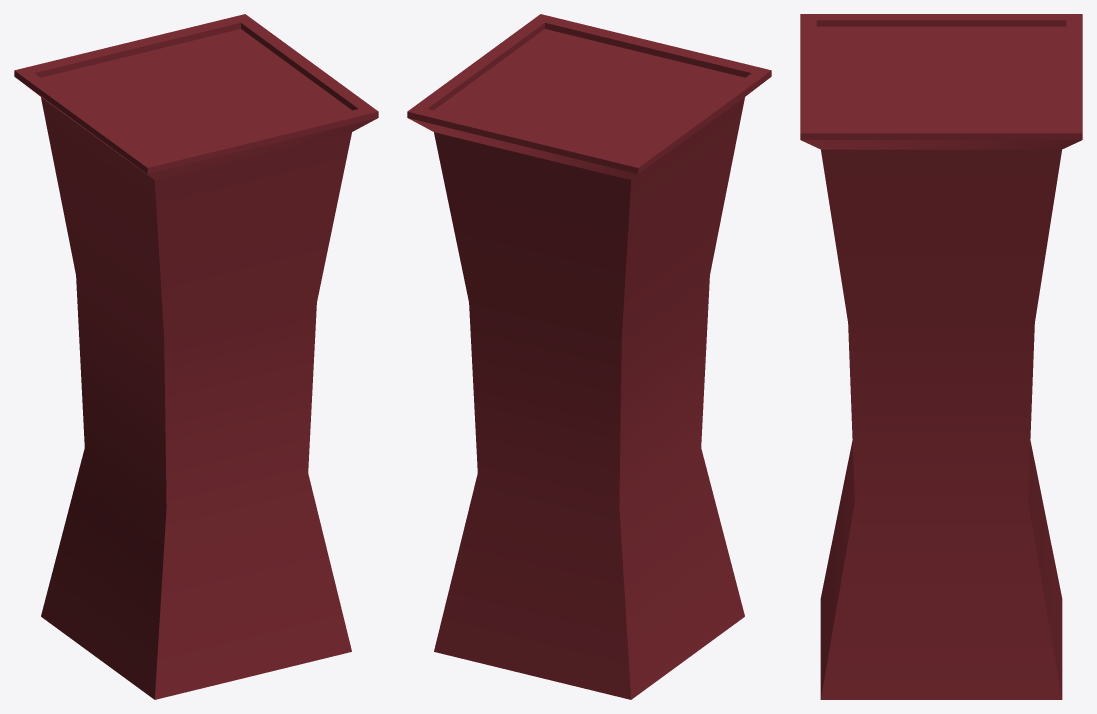
Rendered from Pulpito2.glb.
3 views of the same model, side by side, from view 1: azimuth 30°, elevation 25°; view 2: azimuth 150°, elevation 25°; view 3: azimuth 270°, elevation 25° (orthographic). The views are drawn at different scales.
Visible parts, largest first — view 1: Cube.001; view 2: Cube.001; view 3: Cube.001.
Boxes of the visible parts, x1,y1,x2,y2 form: Cube.001: [14, 14, 378, 699]; Cube.001: [407, 14, 771, 699]; Cube.001: [800, 14, 1082, 699].
Size of the model in its own units: 2.04 by 4.57 by 2.04.
